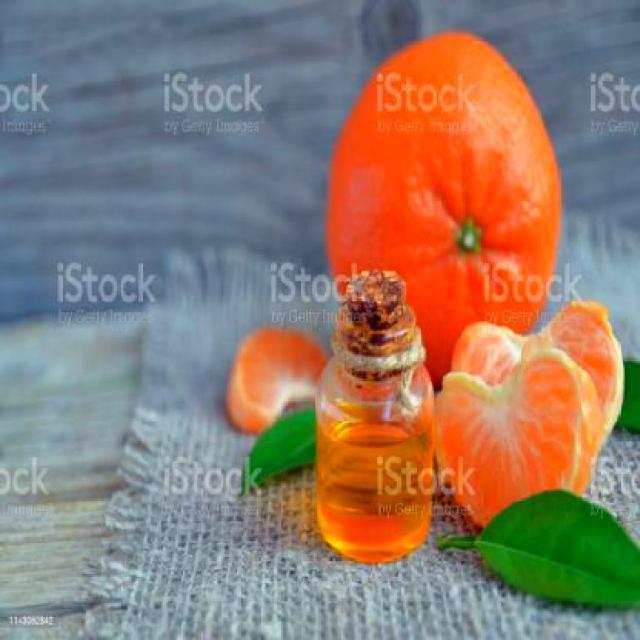Jeruk Sudah Matang: (324, 38, 554, 374)
